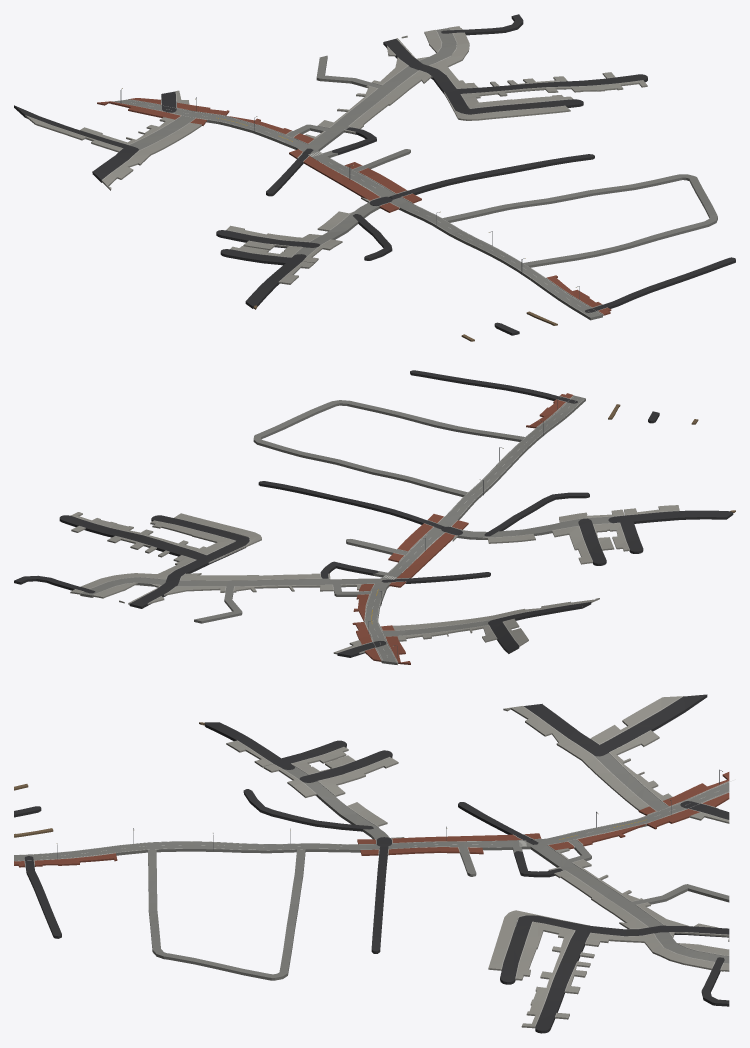
3 views of the same model, one above another, from view 1: azimuth 30°, elevation 25°; view 2: azimuth 150°, elevation 25°; view 3: azimuth 270°, elevation 25° (orthographic). The views are drawn at different scales.
Size of the model in its own units: 275 by 24.31 by 294.
